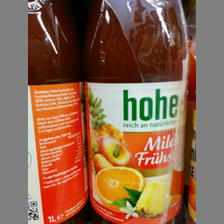juice: (83, 1, 187, 223), (28, 1, 88, 224)
